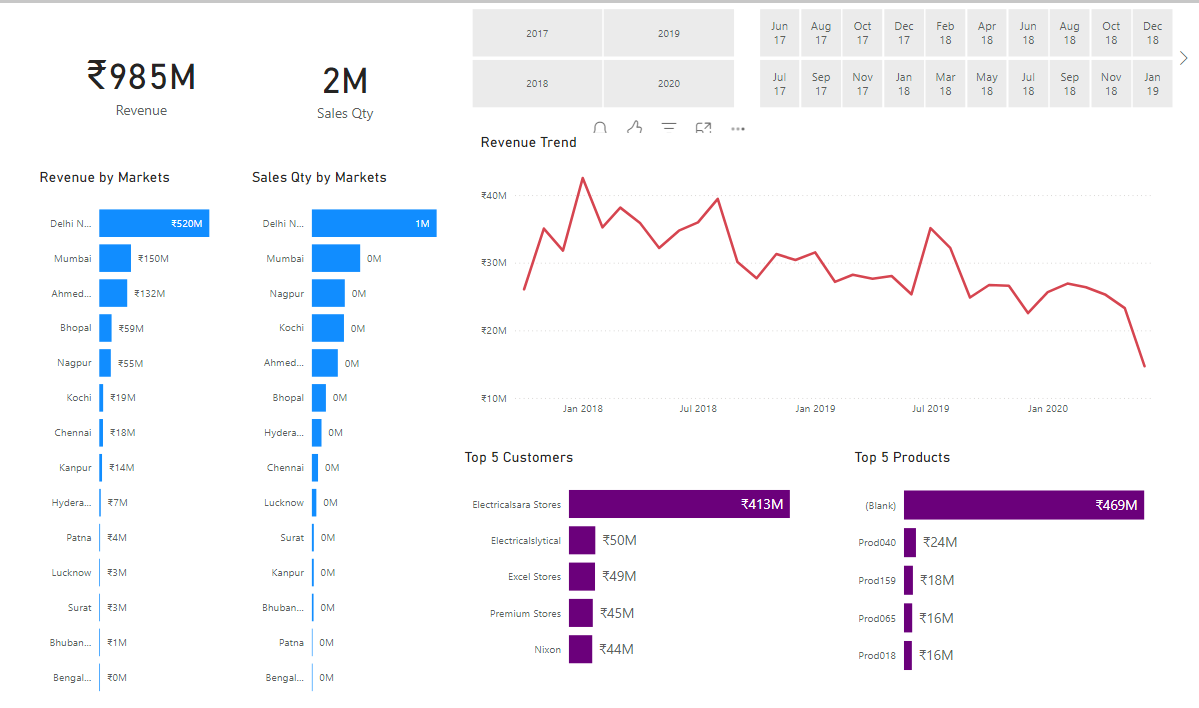

The page's visual inventory and layout, read from the dashboard file:
{"tool":"powerbi","page":{"name":"Key Insights","canvas":[1350,850],"ordinal":0},"visuals":[{"type":"card","fields":{"Values":["BaseMeasures (2).Revenue"]},"box":[0,0,247.9,184.6],"z":0},{"type":"card","fields":{"Values":["BaseMeasures (2).Sales Qty"]},"box":[247.9,0,227.9,193.1],"z":1000},{"type":"barChart","title":"Revenue by Markets","fields":{"Y":["BaseMeasures (2).Revenue"],"Category":["sales markets.markets_name"]},"box":[0,193.1,247.9,631.9],"z":2000},{"type":"barChart","title":"Sales Qty by Markets","fields":{"Y":["BaseMeasures (2).Sales Qty"],"Category":["sales markets.markets_name"]},"box":[247.9,193.1,247.9,631.9],"z":3000},{"type":"slicer","fields":{"Values":["sales date.year"]},"box":[483.6,0,355.1,128.5],"z":4000},{"type":"slicer","fields":{"Values":["sales date.cy_date"]},"box":[818.5,0,531.3,128.5],"z":5000},{"type":"barChart","title":"Top 5 Customers","fields":{"Y":["BaseMeasures (2).Revenue"],"Category":["sales customers.custmer_name"]},"box":[495.8,519,446.2,274.3],"z":6000},{"type":"barChart","title":"Top 5 Products","fields":{"Y":["BaseMeasures (2).Revenue"],"Category":["sales products.product_code"]},"box":[950.7,519.2,399.5,282.8],"z":7000},{"type":"lineChart","title":"Revenue Trend","fields":{"Y":["BaseMeasures (2).Revenue"],"Category":["sales date.cy_date"]},"box":[513.9,151.6,808.4,339.3],"z":8000}]}

Visuals, with their boxes on the page's 1350x850 design canvas (x1, y1, x2, y2). These are canvas units, not pixel positions in the 1199x708 screenshot, which may show the page scaled, cropped or inside an application window:
card - BaseMeasures (2).Revenue: left=0, top=0, right=248, bottom=185
card - BaseMeasures (2).Sales Qty: left=248, top=0, right=476, bottom=193
"Revenue by Markets" barChart: left=0, top=193, right=248, bottom=825
"Sales Qty by Markets" barChart: left=248, top=193, right=496, bottom=825
slicer - sales date.year: left=484, top=0, right=839, bottom=128
slicer - sales date.cy_date: left=818, top=0, right=1350, bottom=128
"Top 5 Customers" barChart: left=496, top=519, right=942, bottom=793
"Top 5 Products" barChart: left=951, top=519, right=1350, bottom=802
"Revenue Trend" lineChart: left=514, top=152, right=1322, bottom=491
